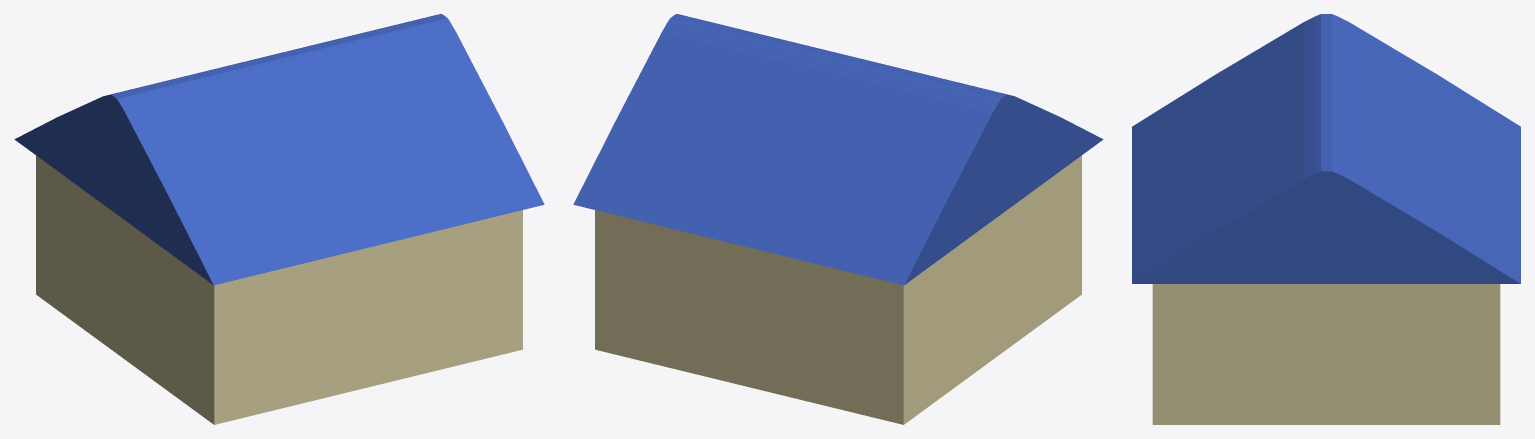
File: SimpleHouse3.fbx
3 renders of one model, left to right at view 1: azimuth 30°, elevation 25°; view 2: azimuth 150°, elevation 25°; view 3: azimuth 270°, elevation 25°, orthographic. The views are drawn at different scales.
Parts seen in each view (by area): view 1: Cube; view 2: Cube; view 3: Cube.
Boxes of the visible parts, left/top/right/bottom form: Cube: left=14, top=14, right=544, bottom=424; Cube: left=573, top=14, right=1103, bottom=424; Cube: left=1132, top=14, right=1520, bottom=424.
Size of the model in its own units: 214 by 164 by 224.
